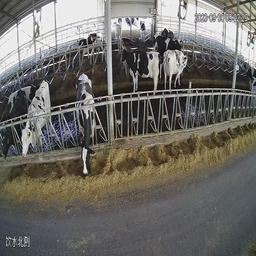cow: (22, 76, 53, 160), (74, 71, 96, 173), (124, 42, 162, 99), (1, 89, 28, 163), (163, 46, 193, 93), (151, 34, 185, 68), (109, 26, 134, 57), (136, 18, 150, 43), (159, 26, 175, 43)
